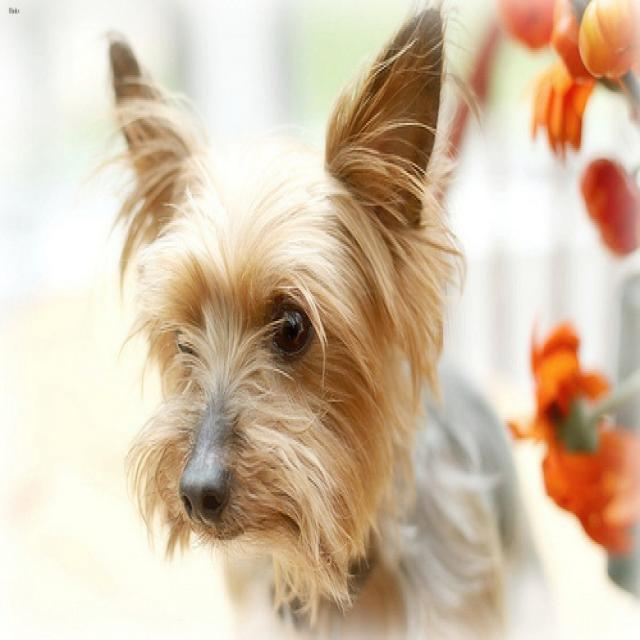dog-yorkshire_terrier: (93, 2, 570, 636)
